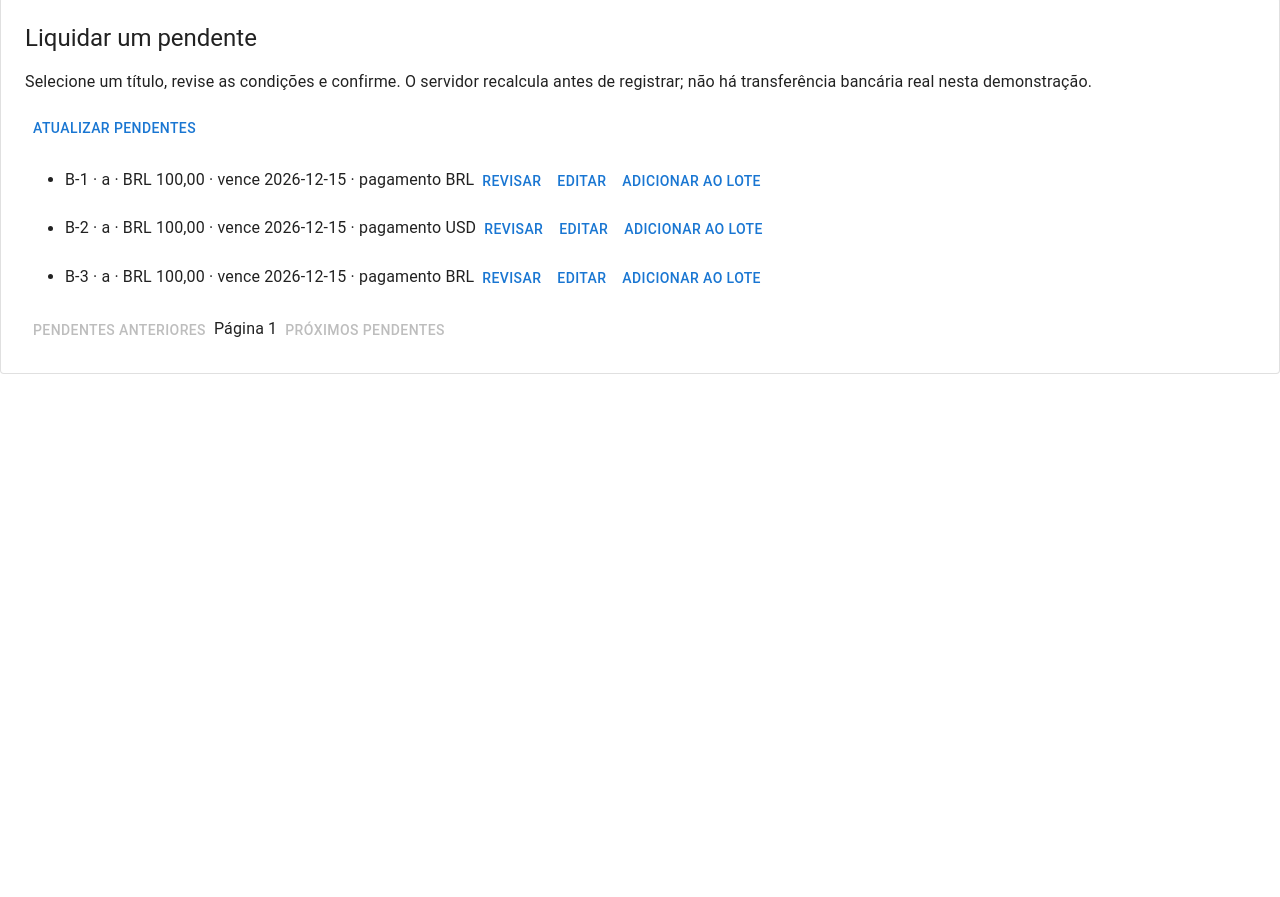
technical simulation failure stops remaining previews without any settlement request
The width and height of the screenshot is (1280, 897).
Click the button "Adicionar ao lote" in the row of "B-1".
click(692, 181)  # box x1=614 y1=162 x2=769 y2=199
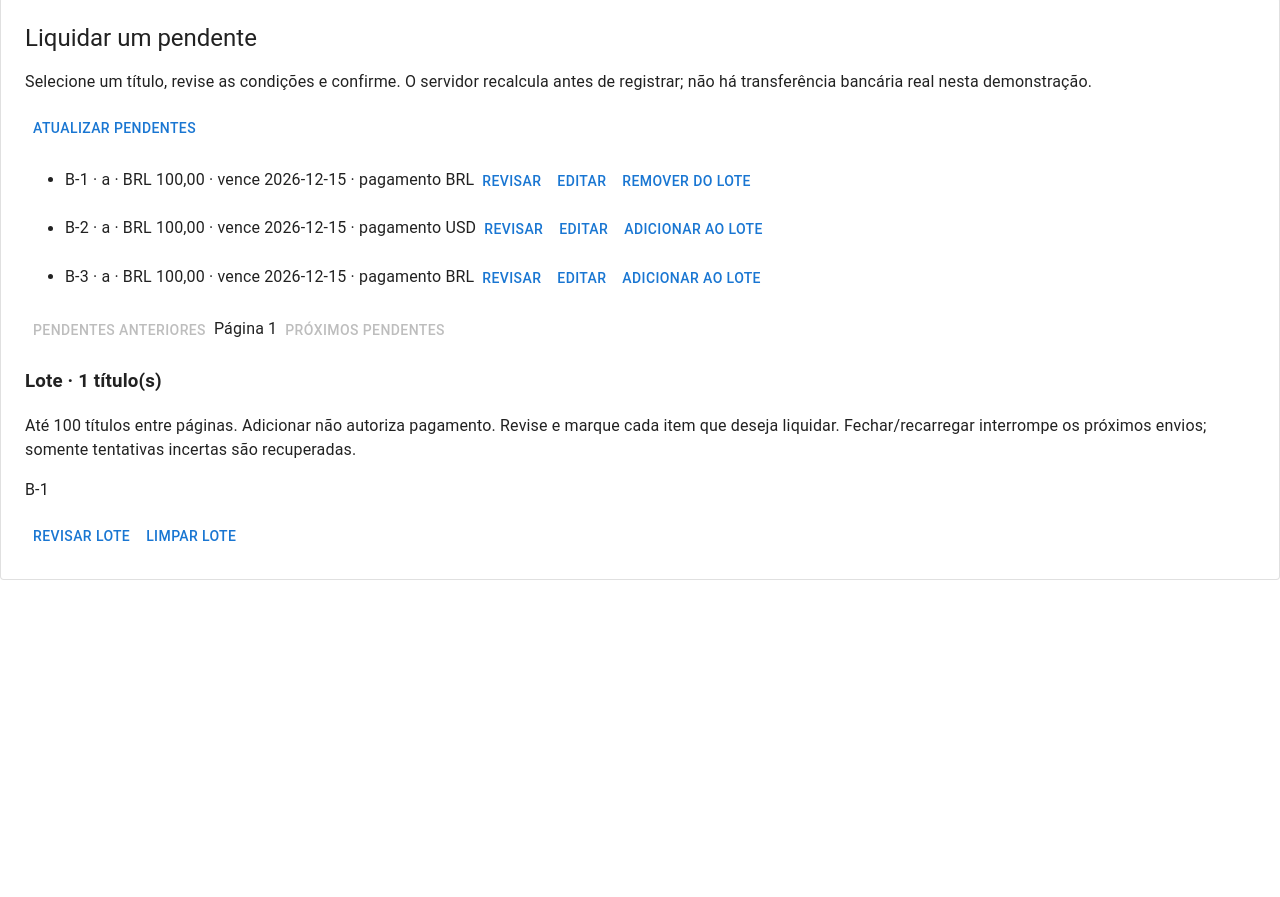
Click the button "Adicionar ao lote" in the row of "B-2".
click(694, 229)  # box x1=616 y1=211 x2=771 y2=248
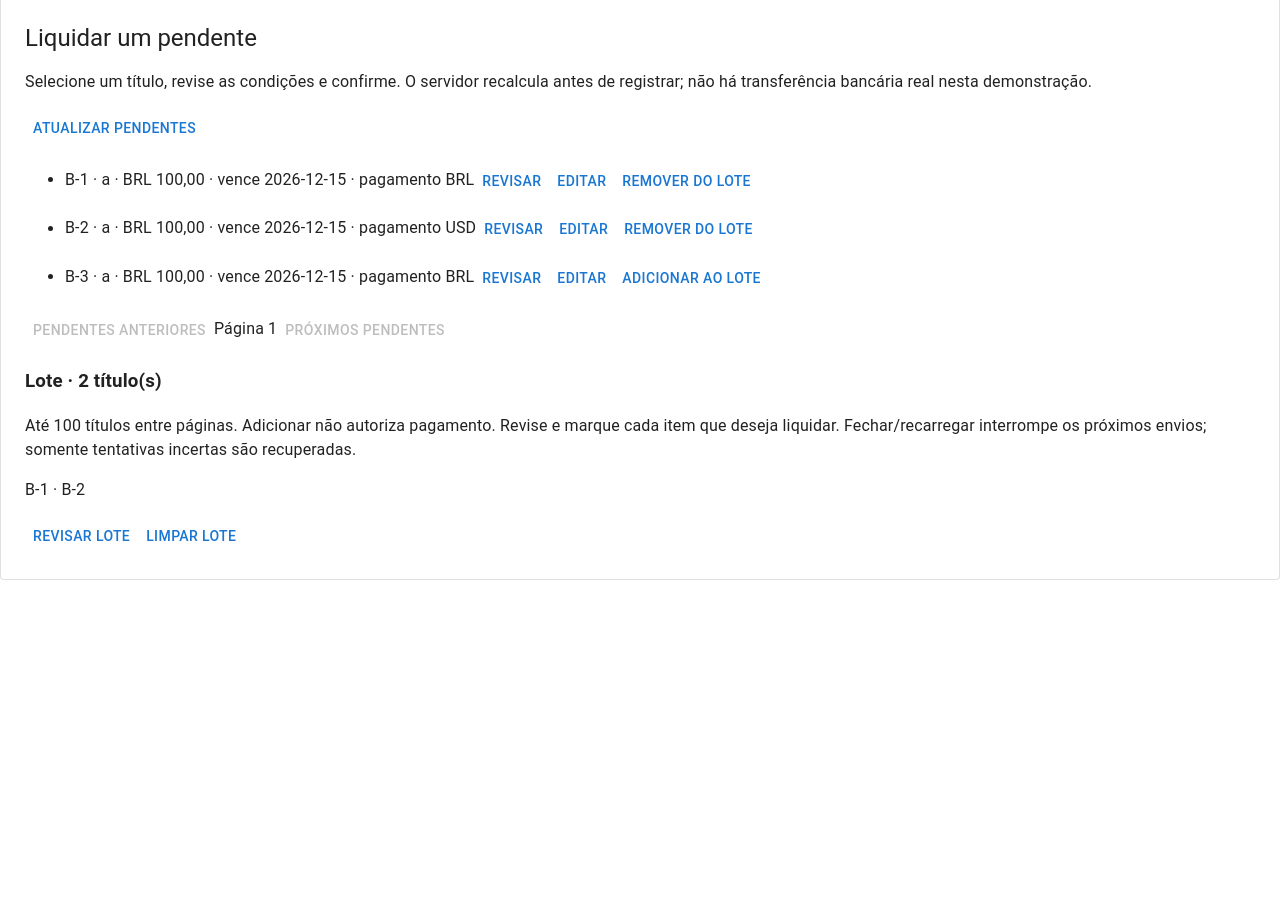
Click the button "Adicionar ao lote".
click(692, 278)  # box x1=614 y1=260 x2=769 y2=296
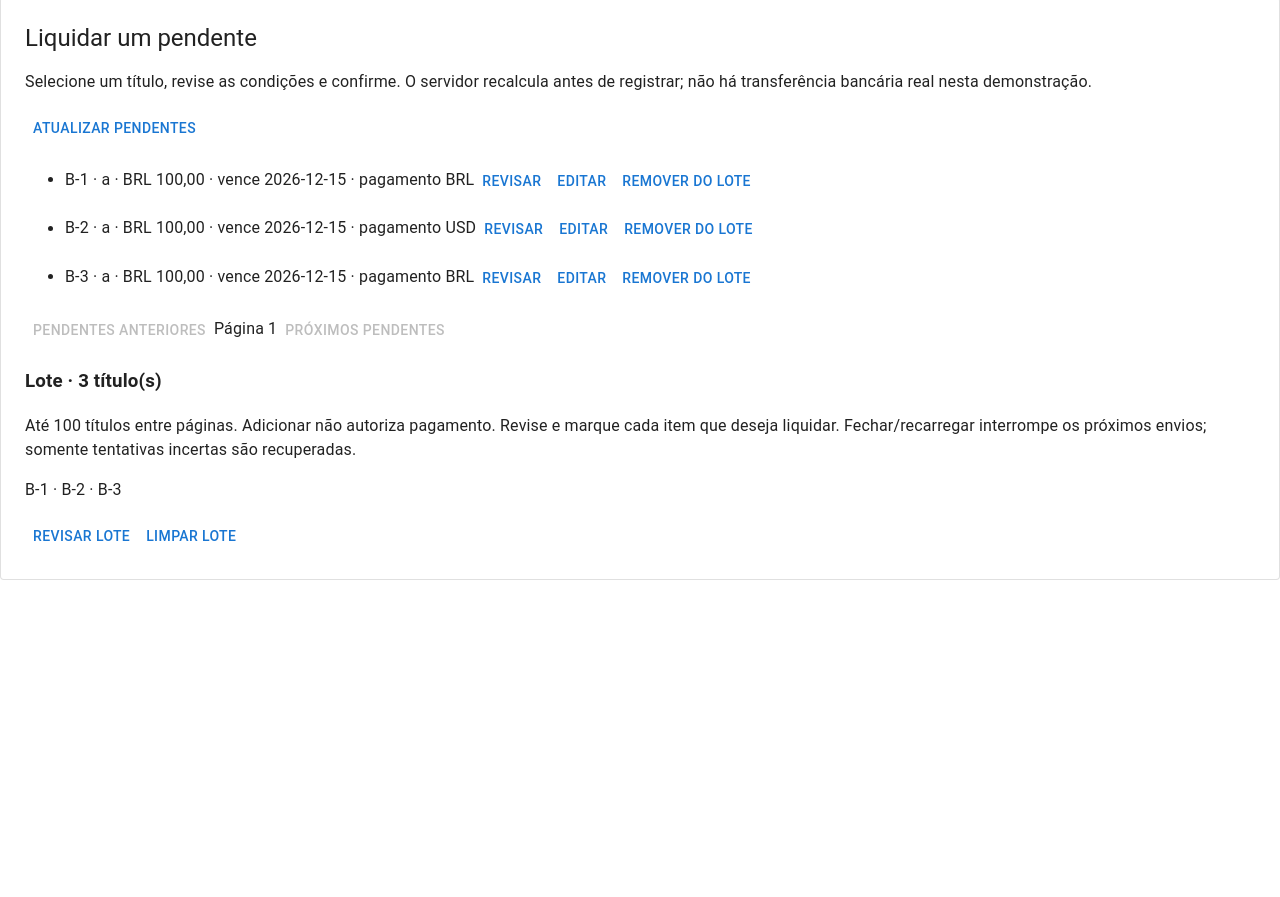
Click the button "Revisar lote".
click(82, 536)  # box x1=25 y1=518 x2=138 y2=554
(page scrolled)
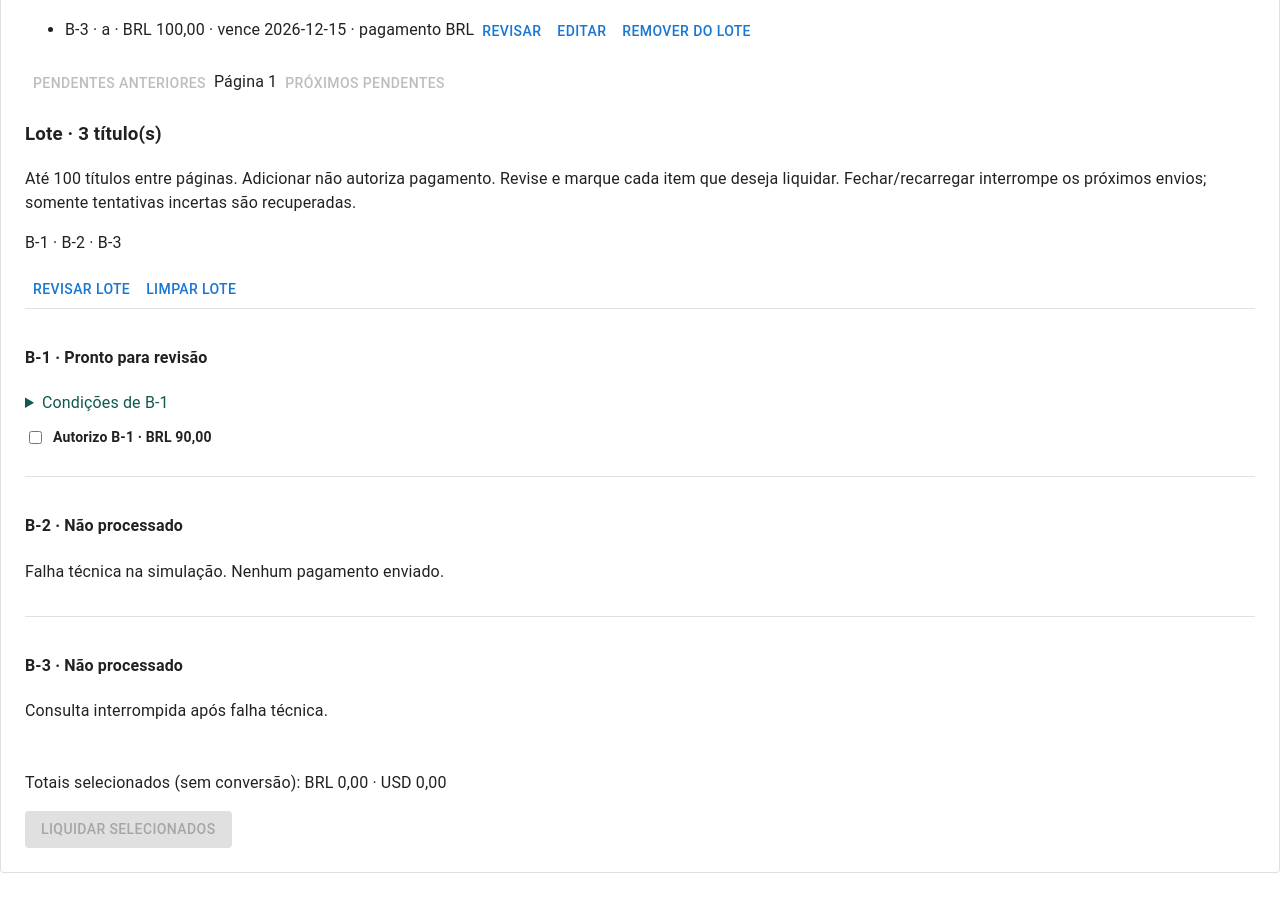
Expected: the heading "B-3 · Não processado" is shown, x1=25 y1=656 x2=183 y2=675
Expected: the number of checkboxes is 1, x1=29 y1=430 x2=42 y2=445
